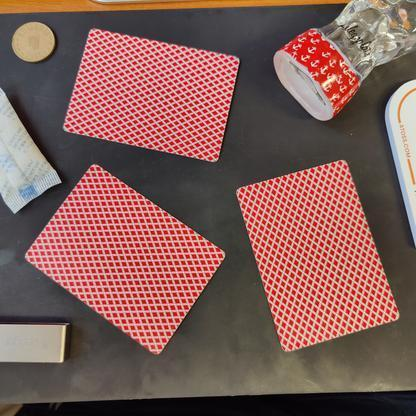card: (17, 160, 232, 358), (224, 155, 408, 353), (52, 24, 256, 167)
